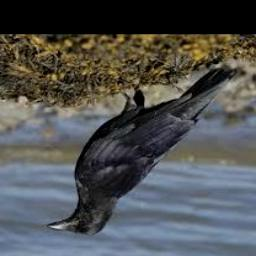Crow: (48, 67, 238, 236)
